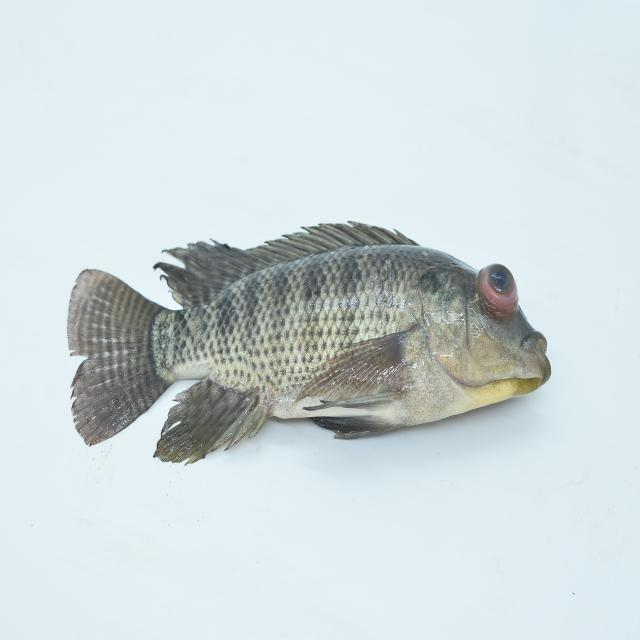streptococcus Disease: (65, 216, 568, 467)
